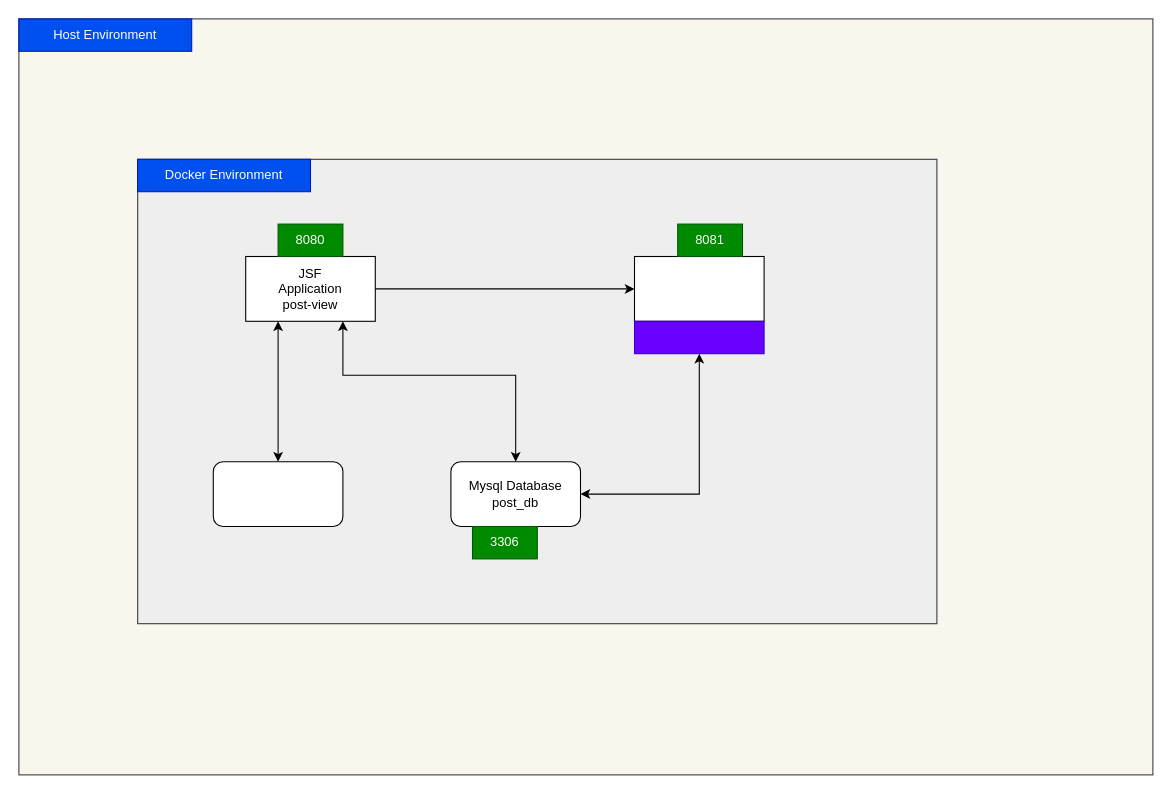
Some shapes in this 1172 by 794 pixel diagram are drawn without their labels. Each missing label, with the centre of its shape:
"Folder Images" belongs at [277,493].
"Rest API" belongs at [698,337].
"Spring Application post-api" belongs at [698,288].
